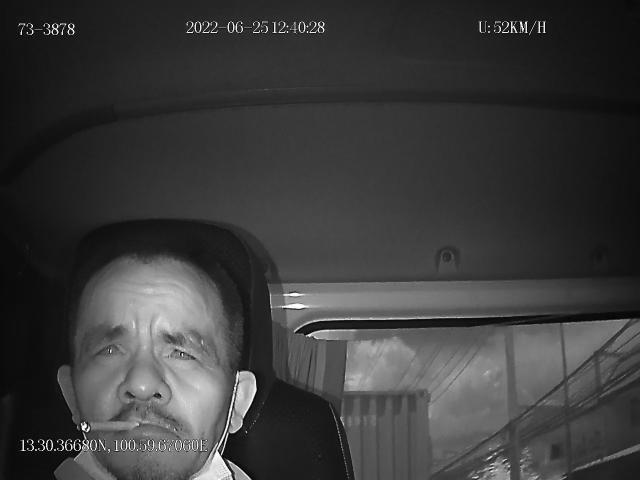SafeDriving: (160, 331, 208, 372), (89, 330, 132, 368)
Smoking: (76, 418, 140, 432)
